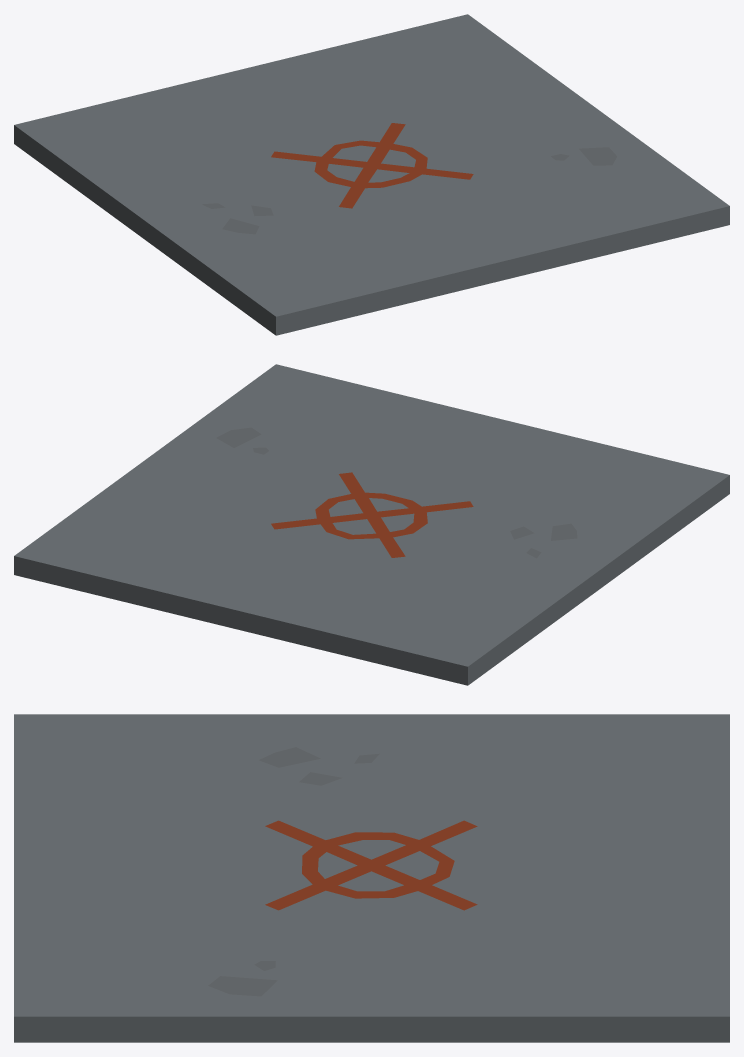
The model's file is Floor_05.fbx.
3 views of the same model, one above another, from view 1: azimuth 30°, elevation 25°; view 2: azimuth 150°, elevation 25°; view 3: azimuth 270°, elevation 25° (orthographic). The views are drawn at different scales.
Parts seen in each view (by area): view 1: Floor_05; view 2: Floor_05; view 3: Floor_05.
Boxes of the visible parts, bbox=[...] form: Floor_05: bbox=[14, 14, 729, 335]; Floor_05: bbox=[14, 364, 729, 685]; Floor_05: bbox=[14, 714, 729, 1042].
Size of the model in its own units: 500 by 20 by 500.
